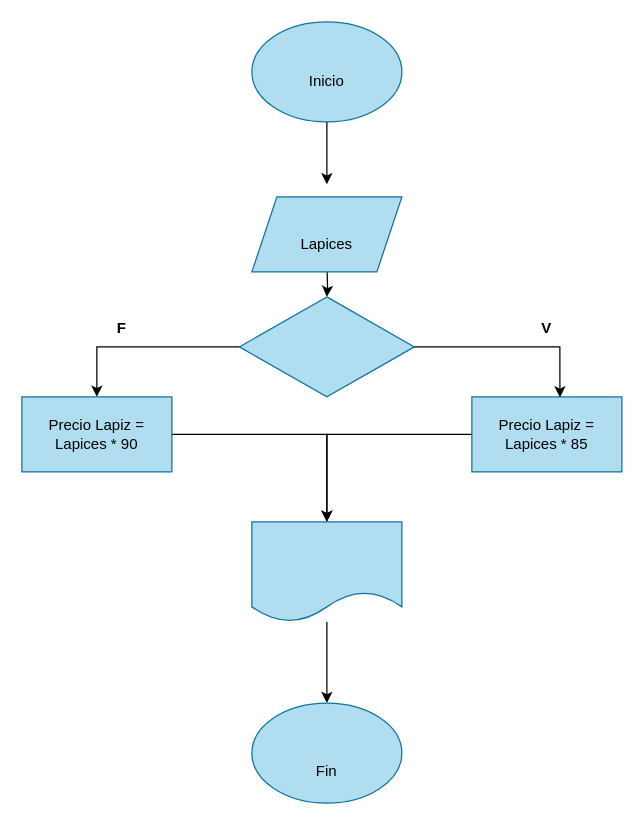
Image size: 644x825. Some labels were removed from this diagram. Here are the shapes that lost their labels. From the top down, the centre of each, then its label:
pixel 326 346: Lapices ≥ 1000
pixel 326 571: Print "Precio Lapiz" + "COP"
